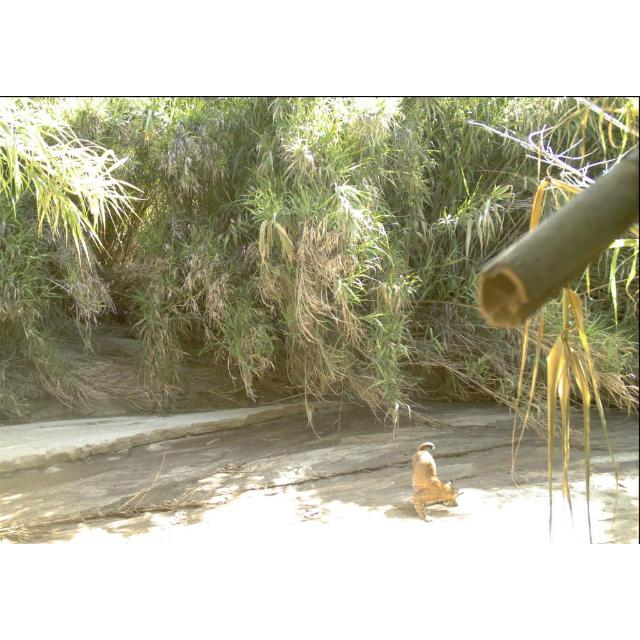animals: (411, 436, 462, 524)
